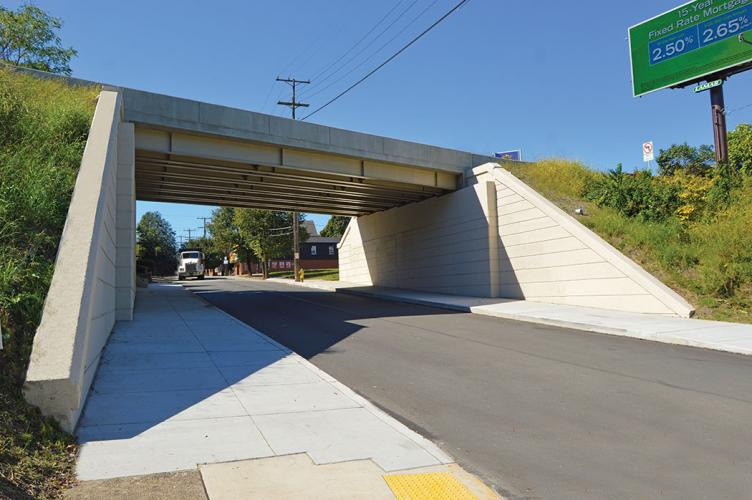bridge: (97, 85, 492, 219)
